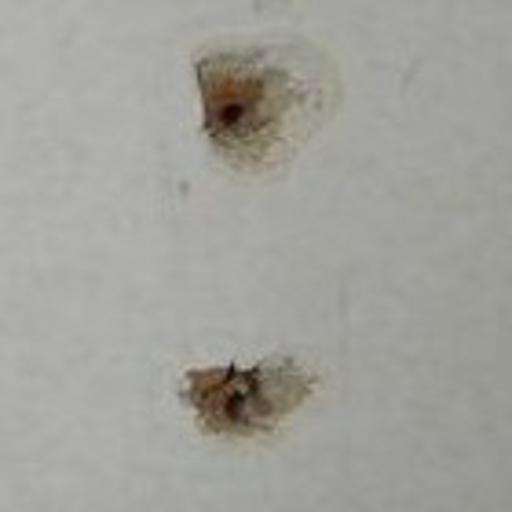spalling: (184, 21, 354, 199), (167, 339, 322, 458)
